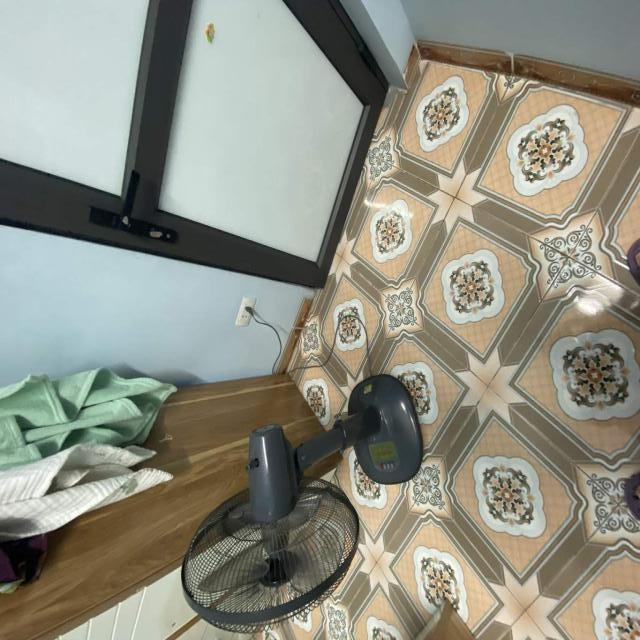outlet: (235, 296, 256, 327)
